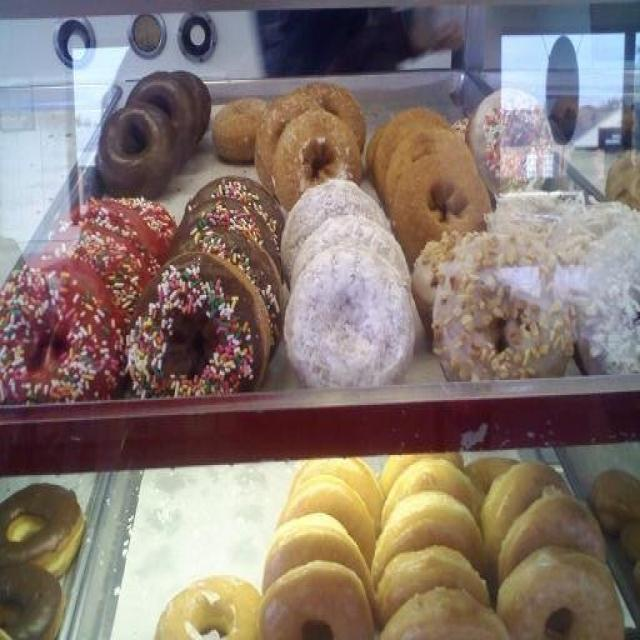Donuts: (5, 65, 640, 640)
